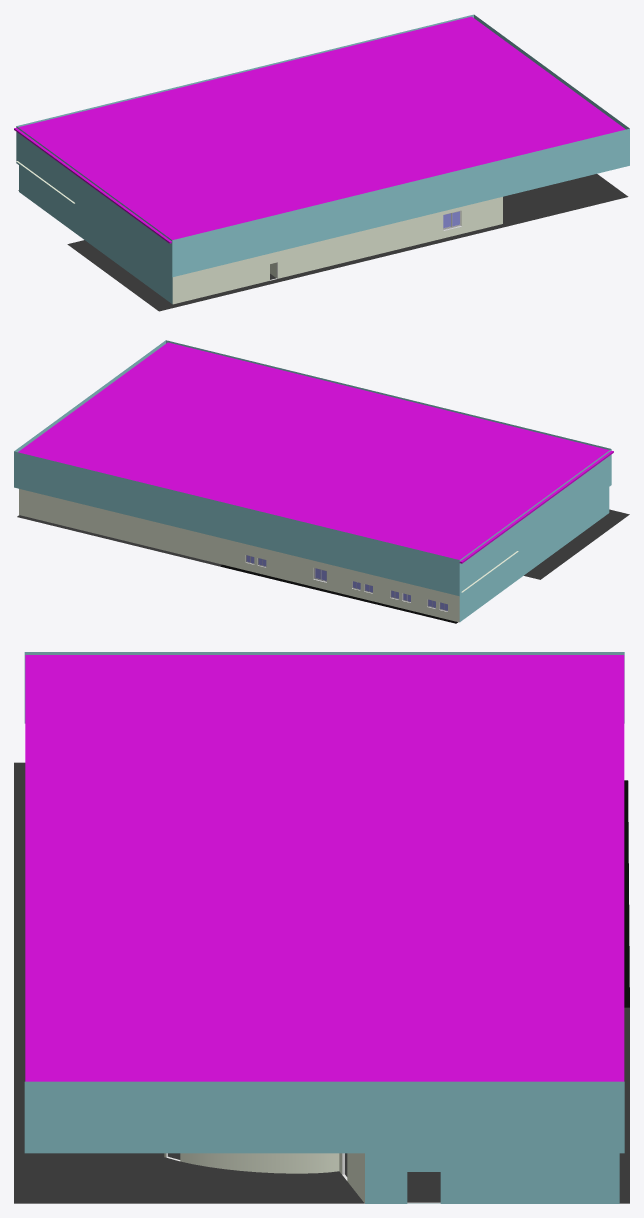
The model's file is laval-virtuel_v2.fbx.
3 views of the same model, one above another, from view 1: azimuth 30°, elevation 25°; view 2: azimuth 150°, elevation 25°; view 3: azimuth 270°, elevation 25° (orthographic). The views are drawn at different scales.
Visible parts, largest first — view 1: plafond, 2eme_etage_verre, 1ere_etage, Sol; view 2: plafond, 2eme_etage_verre, 1ere_etage, Sol; view 3: plafond, 2eme_etage_verre, Sol, 1ere_etage.
Part boxes in pixels (left/top/right/bottom): plafond: left=14, top=16, right=625, bottom=243; 2eme_etage_verre: left=16, top=14, right=629, bottom=277; 1ere_etage: left=19, top=165, right=502, bottom=304; Sol: left=18, top=174, right=628, bottom=311; plafond: left=18, top=342, right=613, bottom=563; 2eme_etage_verre: left=14, top=340, right=611, bottom=596; 1ere_etage: left=19, top=487, right=609, bottom=622; Sol: left=17, top=509, right=629, bottom=623; plafond: left=25, top=655, right=624, bottom=1081; 2eme_etage_verre: left=24, top=652, right=624, bottom=1153; Sol: left=14, top=762, right=629, bottom=1203; 1ere_etage: left=164, top=1153, right=619, bottom=1203.
Size of the model in its own units: 6315 by 832 by 3696.
